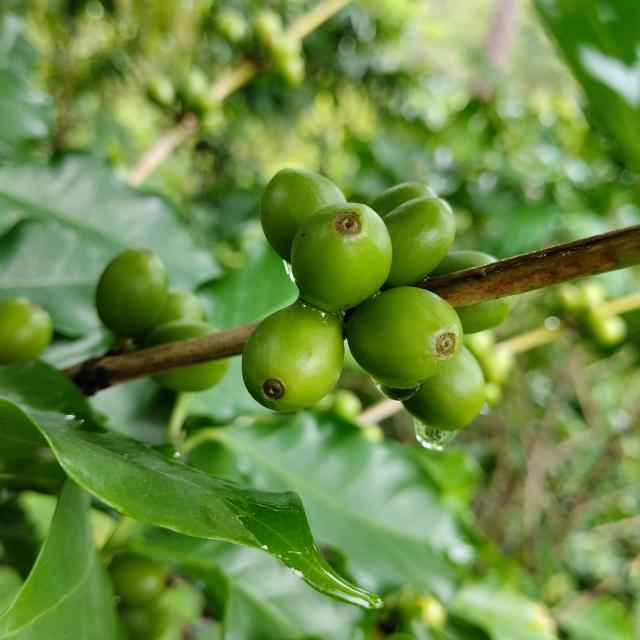green: (347, 286, 464, 389), (242, 299, 344, 412), (291, 202, 393, 313), (260, 168, 346, 262), (403, 346, 486, 431), (383, 197, 456, 289), (95, 249, 168, 336), (455, 295, 518, 334), (155, 359, 229, 392), (370, 182, 438, 217), (144, 319, 217, 347), (152, 289, 204, 328), (429, 250, 498, 277)
